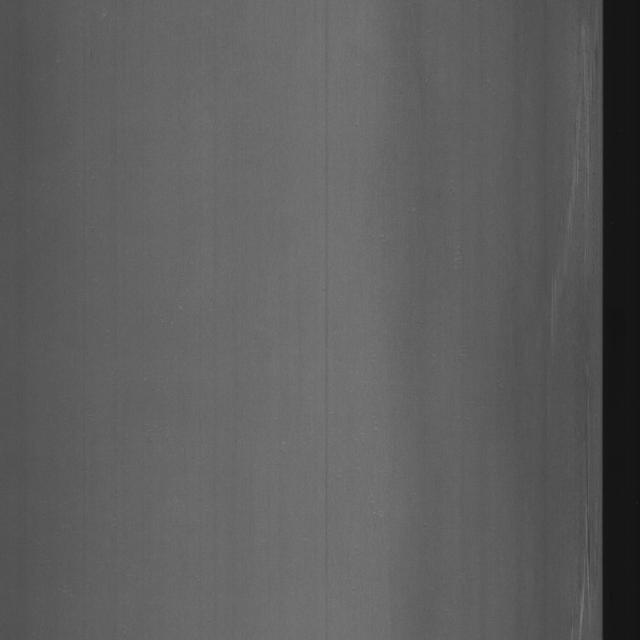inclusion: (544, 25, 596, 292), (565, 367, 598, 637)
